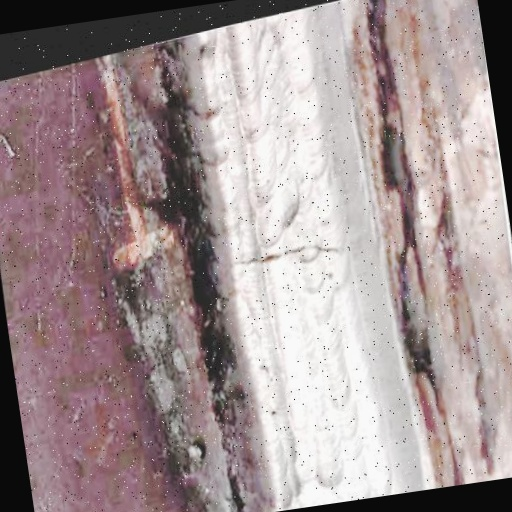crack: (225, 227, 351, 287)
